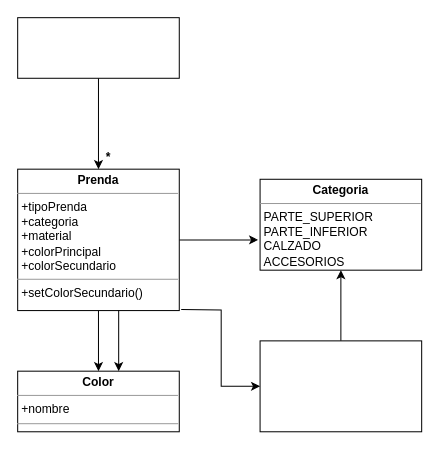
The diagram is 439 pixels wide and 449 high, and some of its shapes have lost their labels. The box of each missing label's shape, as (x1, y1, x2, y2) in pixels:
Atuendo +prendas: (17, 17, 179, 78)
Tipo +nombreTipo +categoria +getCategoria: (259, 340, 422, 432)
